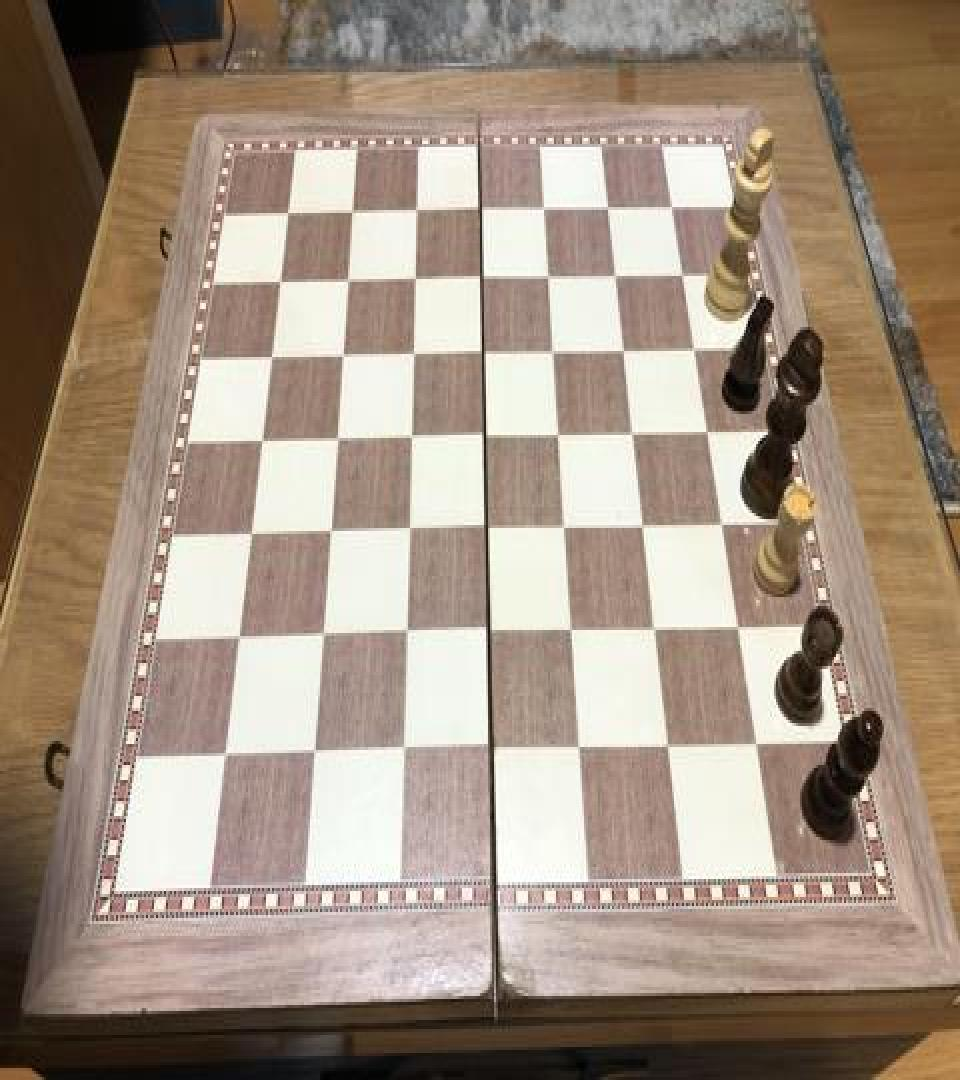xcorner: (397, 514, 421, 551), (477, 616, 501, 653), (655, 727, 679, 764), (479, 733, 503, 770), (302, 739, 326, 776), (662, 189, 686, 225), (599, 190, 623, 226), (535, 192, 559, 228), (471, 194, 495, 230), (407, 195, 431, 231), (343, 195, 367, 231), (278, 196, 302, 232), (673, 258, 697, 294), (539, 261, 563, 297), (472, 261, 496, 297), (405, 262, 429, 298), (337, 264, 361, 300), (270, 266, 294, 302), (684, 333, 708, 369), (614, 334, 638, 370), (544, 336, 568, 372), (473, 338, 497, 374), (403, 339, 427, 375), (332, 340, 356, 376), (261, 342, 285, 378), (696, 416, 720, 452), (622, 417, 646, 453), (549, 418, 573, 454), (475, 420, 499, 456), (400, 422, 424, 458), (326, 424, 350, 460), (251, 426, 275, 462), (710, 507, 734, 543), (632, 508, 656, 544), (554, 512, 578, 548), (476, 513, 500, 549), (319, 518, 343, 554), (240, 519, 264, 555), (725, 609, 749, 645), (643, 612, 667, 648), (560, 615, 584, 651), (394, 620, 418, 656), (311, 621, 335, 657), (227, 624, 251, 660), (742, 724, 766, 760), (567, 730, 591, 766), (391, 736, 415, 772), (213, 741, 237, 777), (606, 260, 630, 295)
